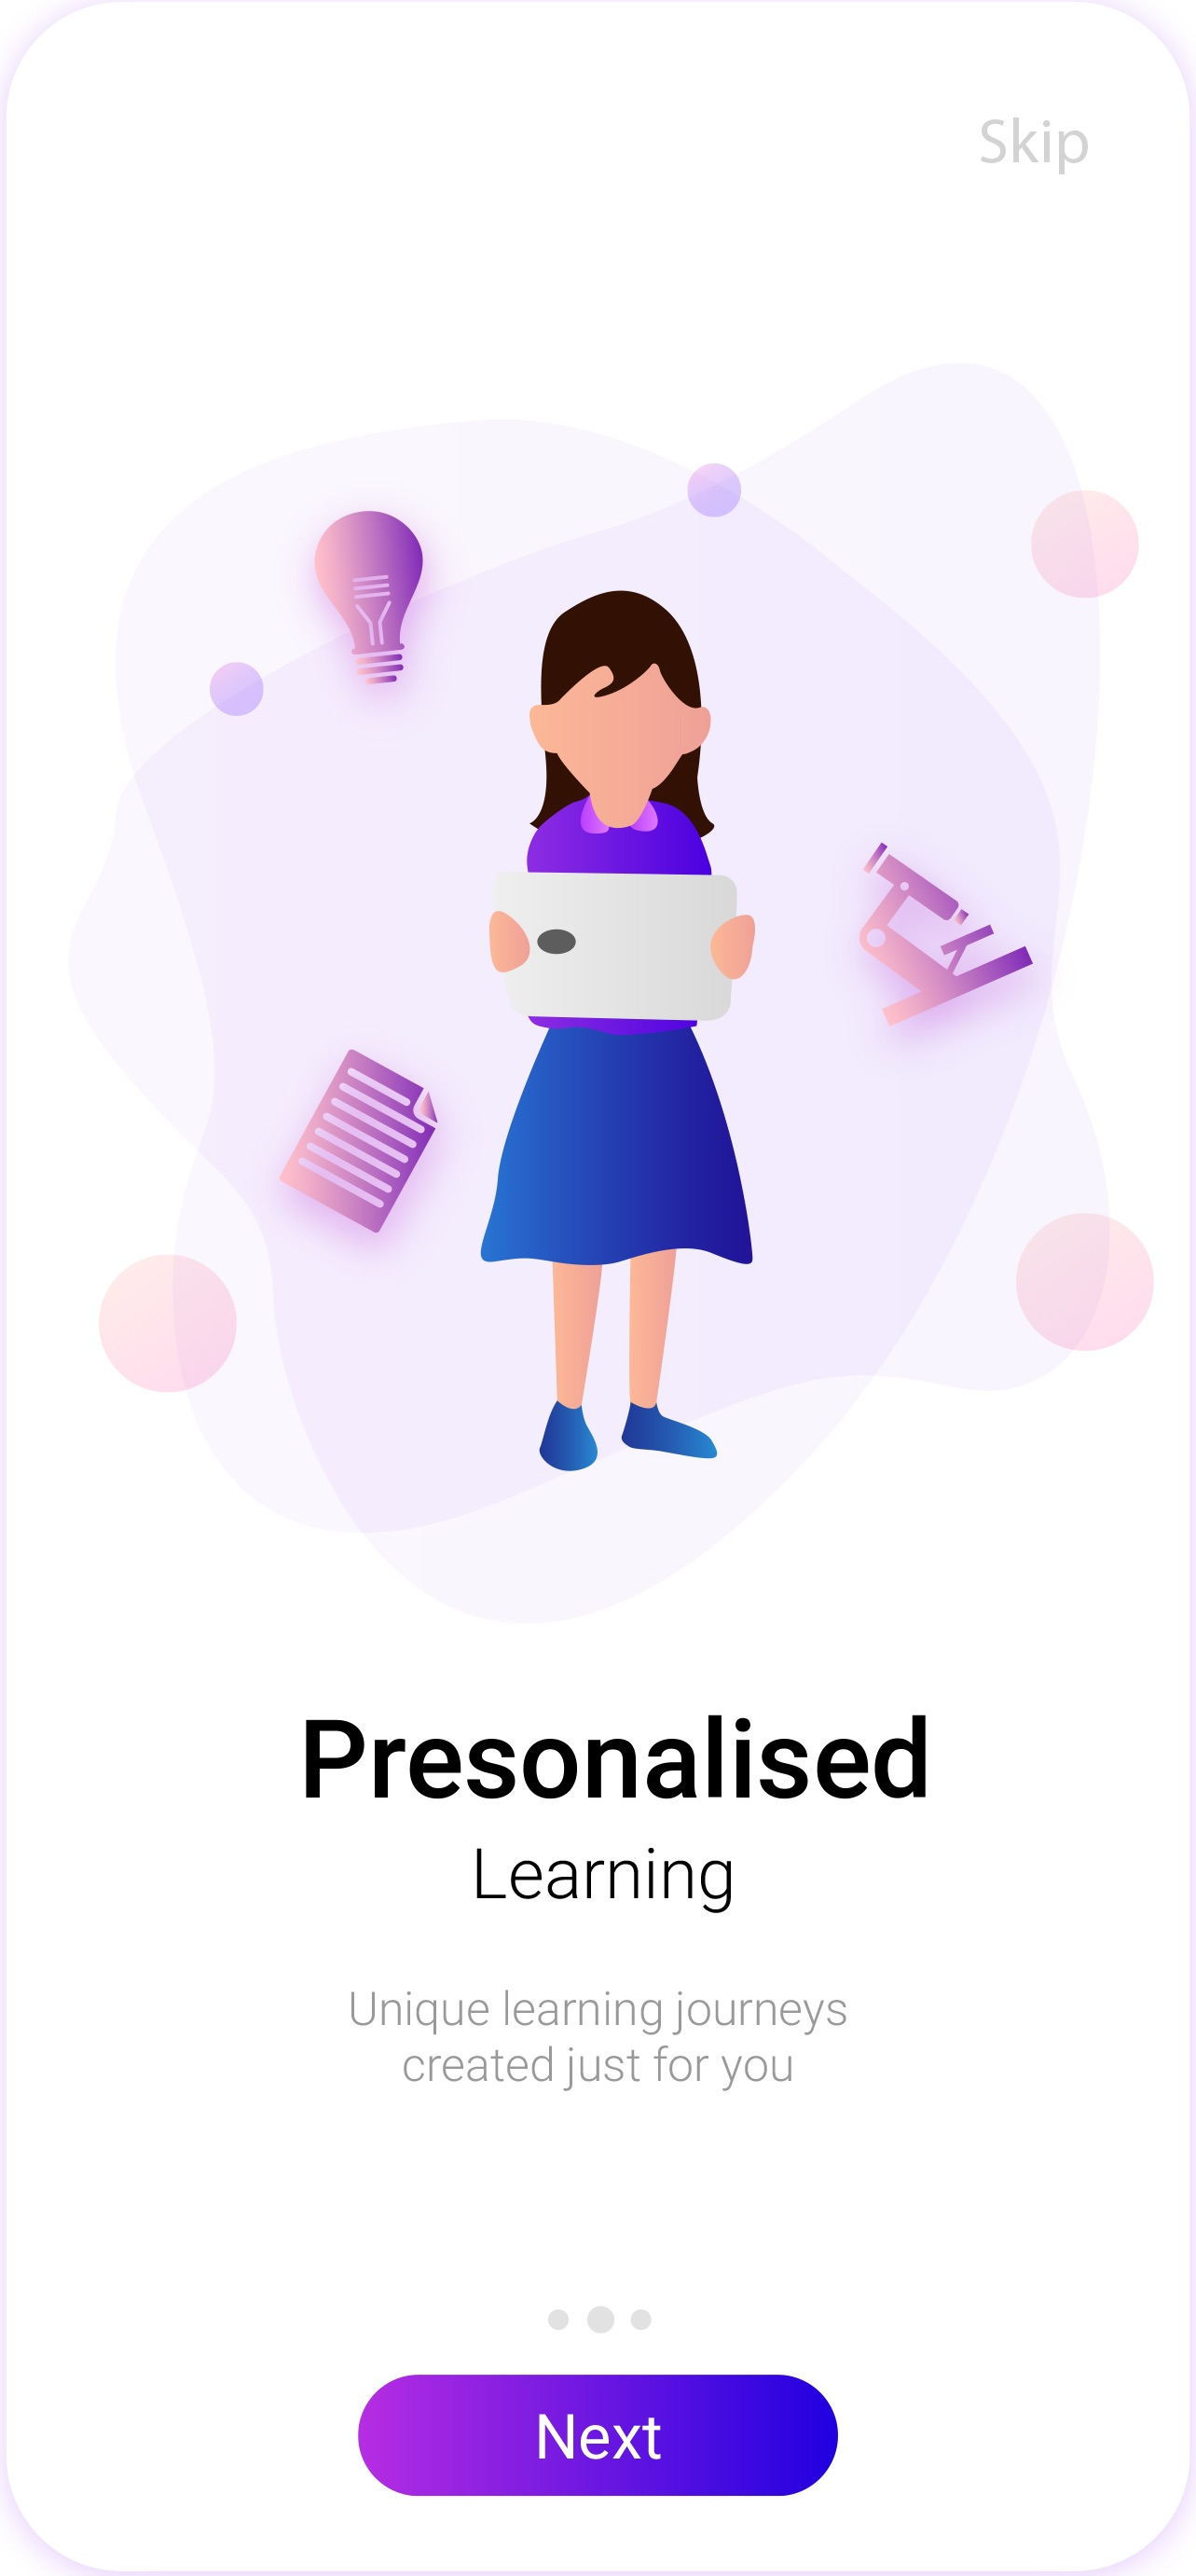Image: (71, 363, 1152, 1625)
PageIndicator: (547, 2305, 654, 2336)
Text: (306, 1713, 928, 1801), (350, 1988, 848, 2091), (475, 1847, 731, 1914), (979, 118, 1089, 176)
TextButton: (358, 2374, 839, 2495)
